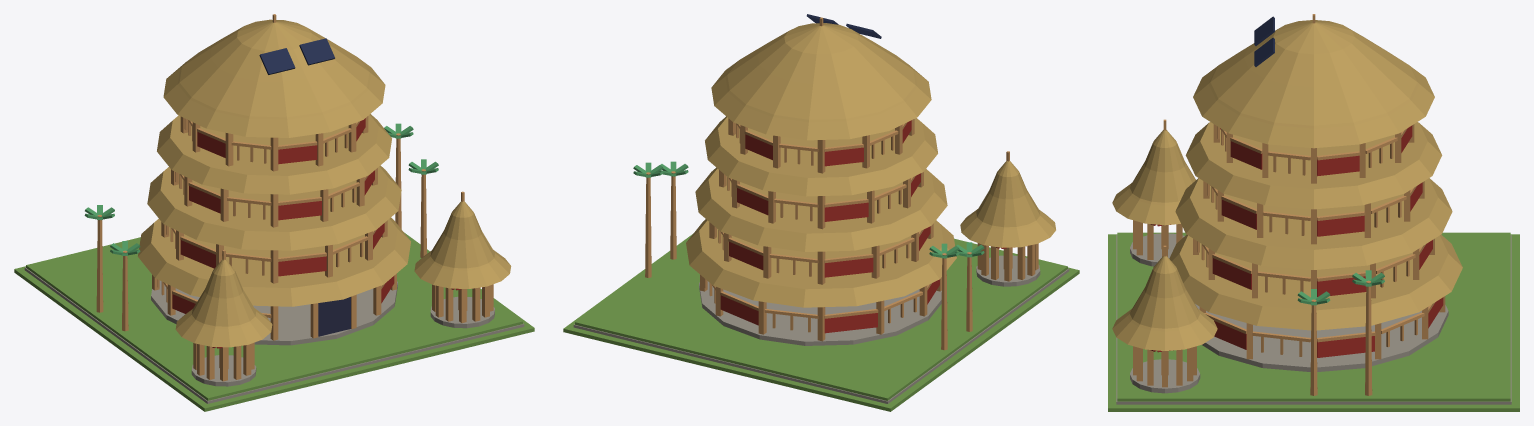
Rendered from house-2x2-4f-fale-a-solar.glb.
The picture shows the model from 3 angles, left to right: view 1: azimuth 30°, elevation 25°; view 2: azimuth 150°, elevation 25°; view 3: azimuth 270°, elevation 25°; orthographic projection. The views are drawn at different scales.
Visible parts, largest first — view 1: house-2x2-4f-fale-a-solar; view 2: house-2x2-4f-fale-a-solar; view 3: house-2x2-4f-fale-a-solar.
Part boxes in pixels (<box>): house-2x2-4f-fale-a-solar: <box>14,14,534,411</box>; house-2x2-4f-fale-a-solar: <box>563,14,1079,411</box>; house-2x2-4f-fale-a-solar: <box>1108,14,1519,411</box>.
Bounding box in the file's own units: 1.99 × 1.65 × 1.99.
Materials: 1 (1 with a texture image).
